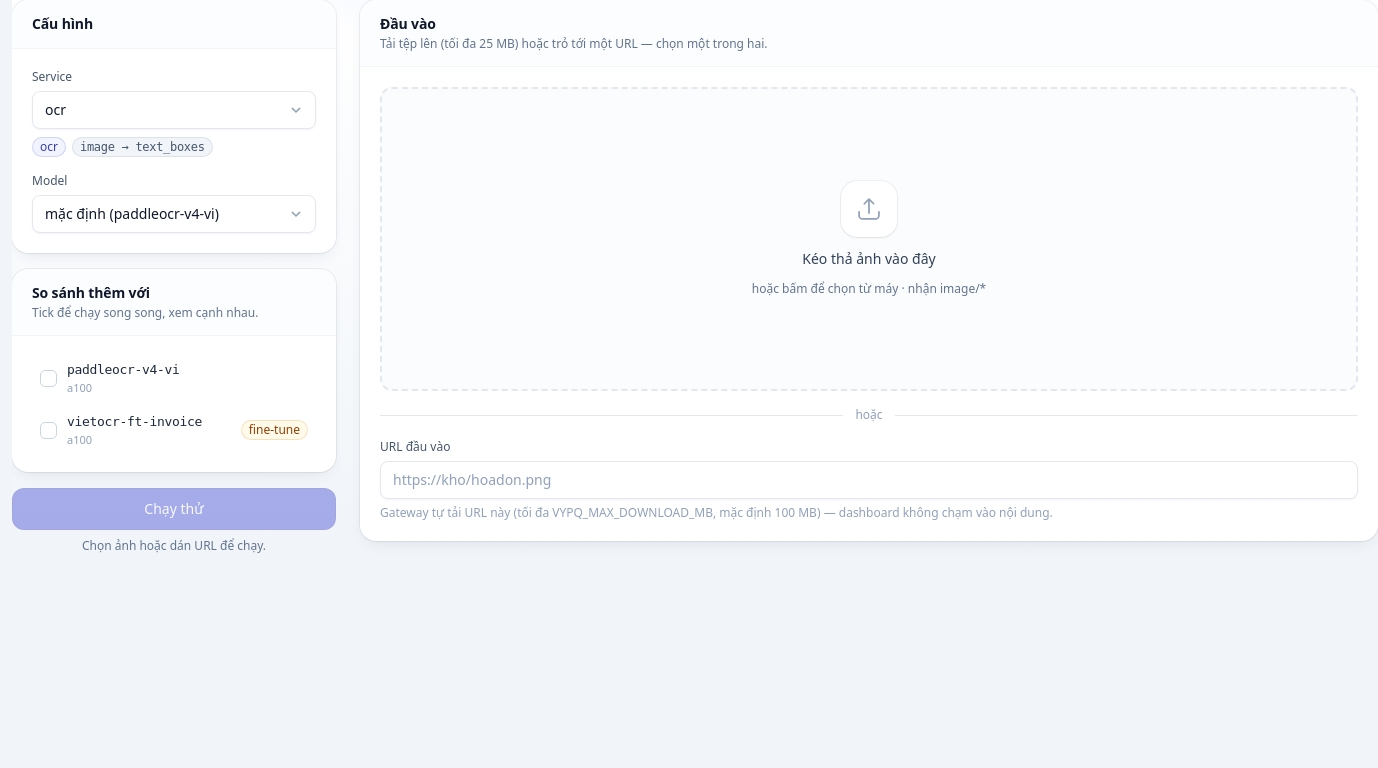
Playground — nhập bằng URL › nút Chạy thử mở khoá khi chỉ có URL, không cần tệp
Expected: the button "Chạy thử" is disabled, [12,488,336,530]
In the field labelled "URL đầu vào": (869, 480) [380,461,1358,499], type "https://kho/anh.png"
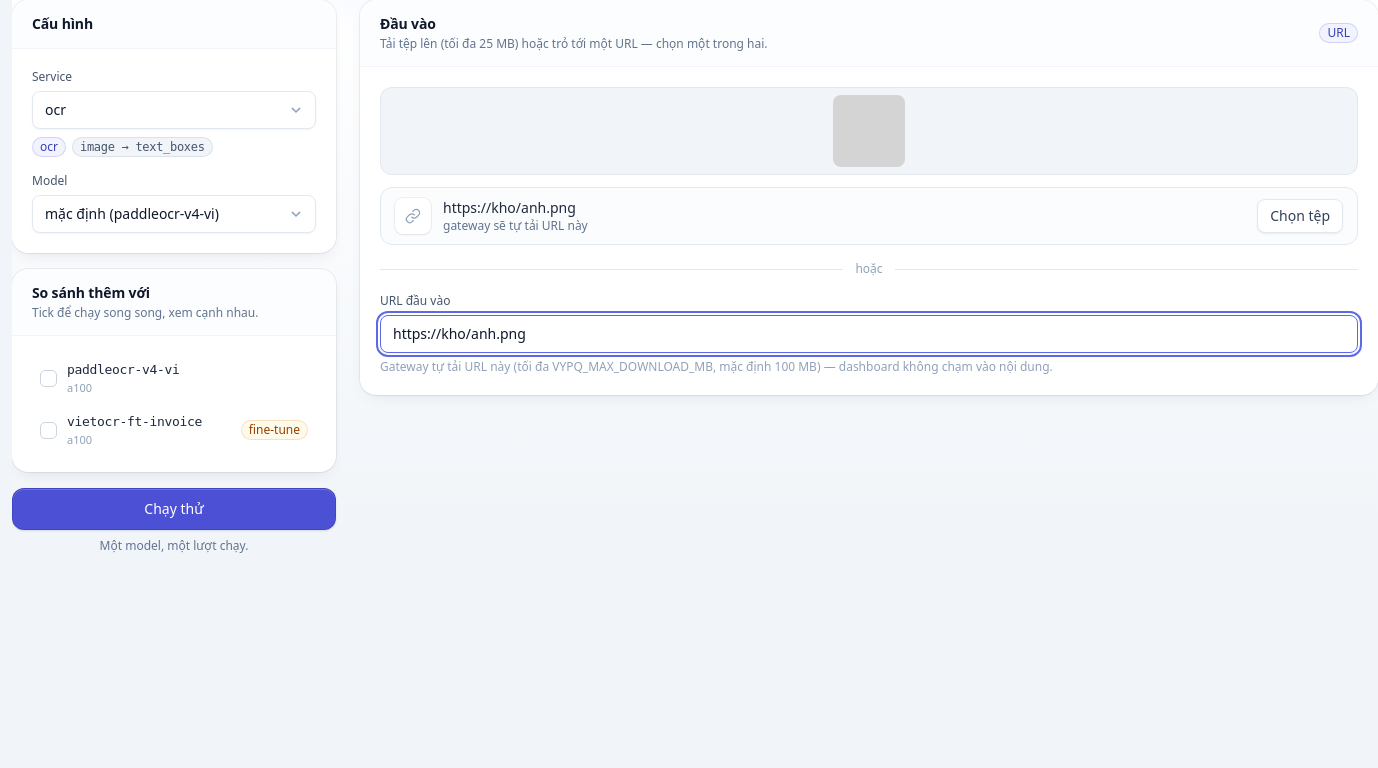
Now the button "Chạy thử" is enabled, box [12,488,336,530]
